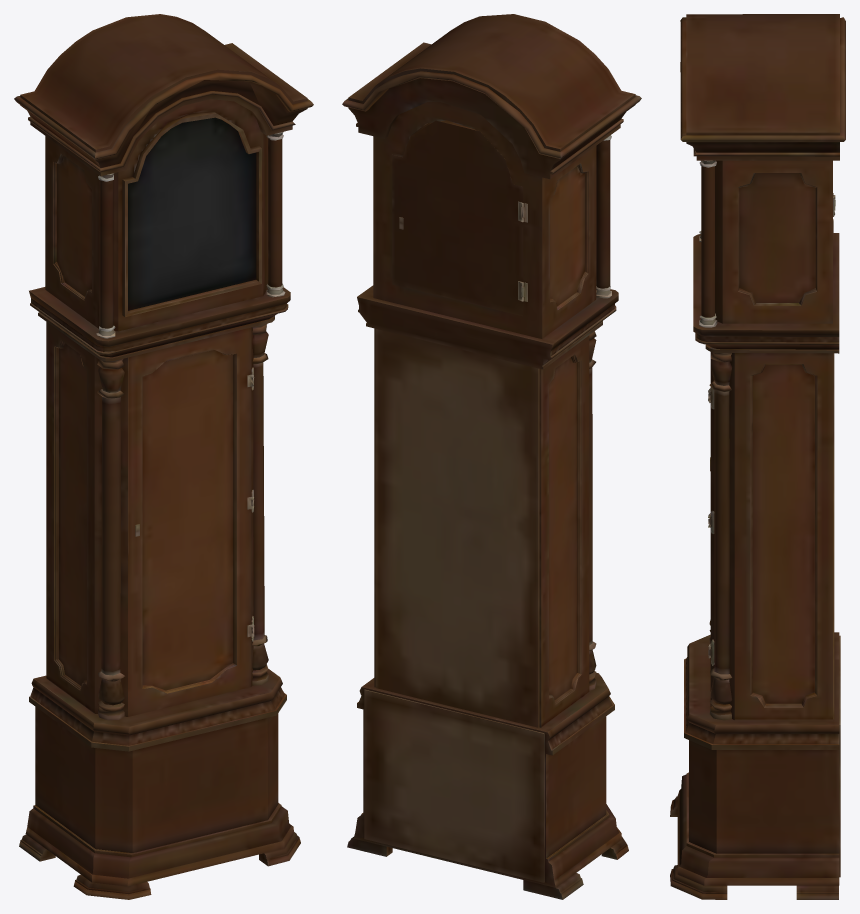
The model's file is vintage_grandfather_clock_01.glb.
3 views of the same model, side by side, from view 1: azimuth 30°, elevation 25°; view 2: azimuth 150°, elevation 25°; view 3: azimuth 270°, elevation 25° (orthographic). The views are drawn at different scales.
Visible parts, largest first — view 1: vintage_grandfather_clock_01_Body; view 2: vintage_grandfather_clock_01_Body; view 3: vintage_grandfather_clock_01_Body.
Boxes of the visible parts, x1,y1,x2,y2 form: vintage_grandfather_clock_01_Body: (14,14,313,899); vintage_grandfather_clock_01_Body: (342,14,641,899); vintage_grandfather_clock_01_Body: (670,14,845,899).
Bounding box in the file's own units: 0.6255 × 2.19 × 0.4265.
2 materials, 2 textured.
